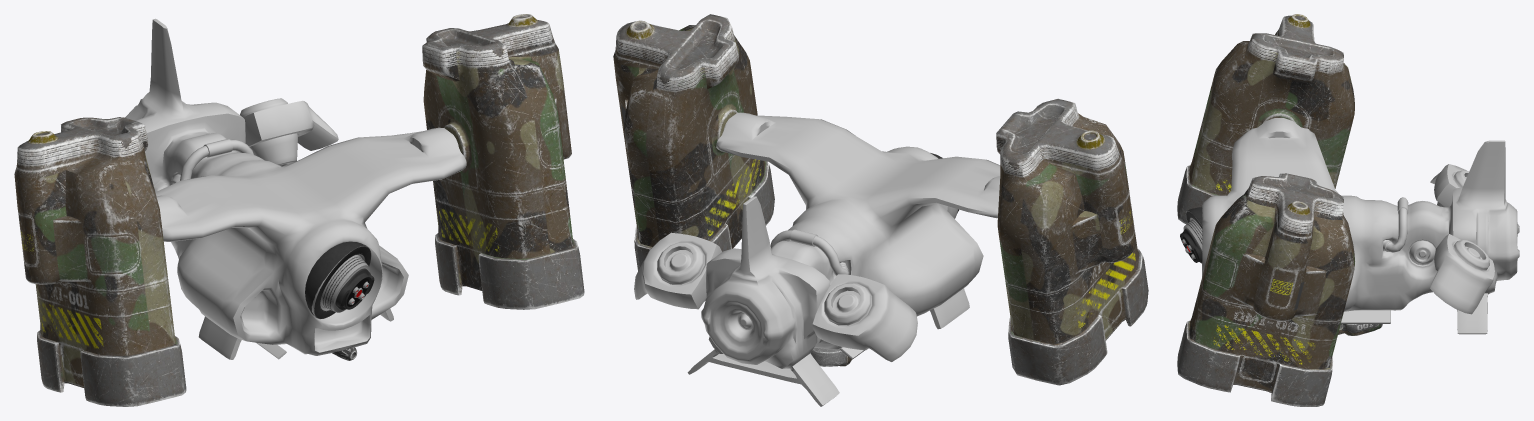
Rendered from SF_Drone2.fbx.
3 renders of one model, left to right at view 1: azimuth 30°, elevation 25°; view 2: azimuth 150°, elevation 25°; view 3: azimuth 270°, elevation 25°, orthographic. The views are drawn at different scales.
Parts seen in each view (by area): view 1: SDPesawatDrone_EngineRoket, SDPesawatDrone_Badan2, SDPesawatDrone_Badan2_1, SDPesawatDrone_Kepala; view 2: SDPesawatDrone_EngineRoket, SDPesawatDrone_Badan2, SDPesawatDrone_Badan2_1, SDPesawatDrone_Senjata_3; view 3: SDPesawatDrone_EngineRoket, SDPesawatDrone_Badan2, SDPesawatDrone_Badan2_1, SDPesawatDrone_Kepala, SDPesawatDrone_Badan2_2, SDPesawatDrone_Senjata_3.
Part boxes in pixels (left/top/right/bottom): SDPesawatDrone_EngineRoket: left=14, top=14, right=584, bottom=406; SDPesawatDrone_Badan2: left=125, top=18, right=466, bottom=359; SDPesawatDrone_Badan2_1: left=240, top=98, right=338, bottom=166; SDPesawatDrone_Kepala: left=305, top=241, right=374, bottom=319; SDPesawatDrone_EngineRoket: left=613, top=14, right=1148, bottom=385; SDPesawatDrone_Badan2: left=687, top=112, right=1000, bottom=406; SDPesawatDrone_Badan2_1: left=634, top=232, right=917, bottom=361; SDPesawatDrone_Senjata_3: left=810, top=347, right=851, bottom=366; SDPesawatDrone_EngineRoket: left=1177, top=14, right=1354, bottom=406; SDPesawatDrone_Badan2: left=1202, top=118, right=1519, bottom=334; SDPesawatDrone_Badan2_1: left=1430, top=164, right=1494, bottom=314; SDPesawatDrone_Kepala: left=1180, top=207, right=1202, bottom=263; SDPesawatDrone_Badan2_2: left=1341, top=310, right=1390, bottom=323; SDPesawatDrone_Senjata_3: left=1338, top=324, right=1382, bottom=335.
Bounding box in the file's own units: 2671 × 1326 × 1845.
